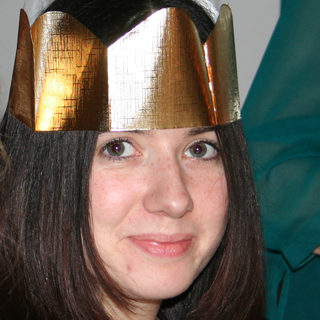eye: (97, 136, 142, 163), (180, 138, 222, 164)
